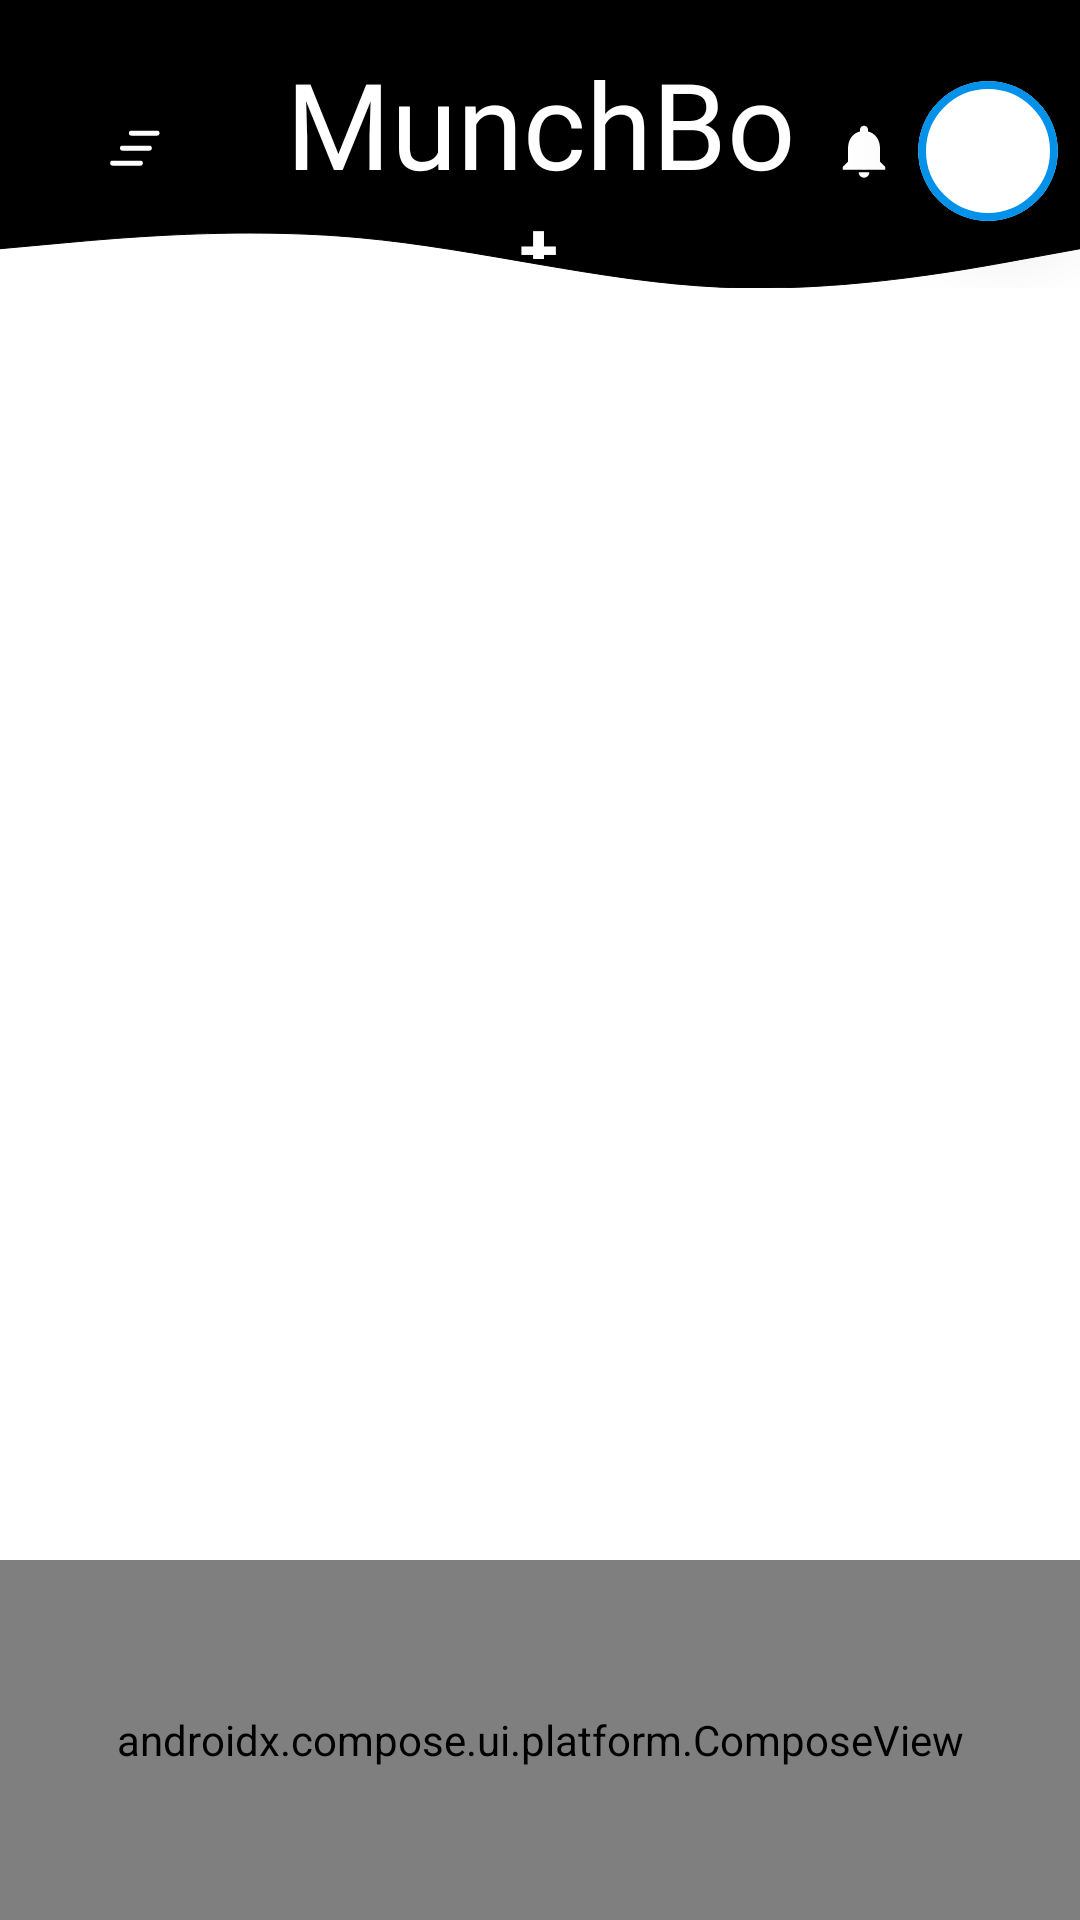

Named icons in this screenshot (1080w x 1920h) and their centers, point (x, y):
notifications: point (864, 151)
